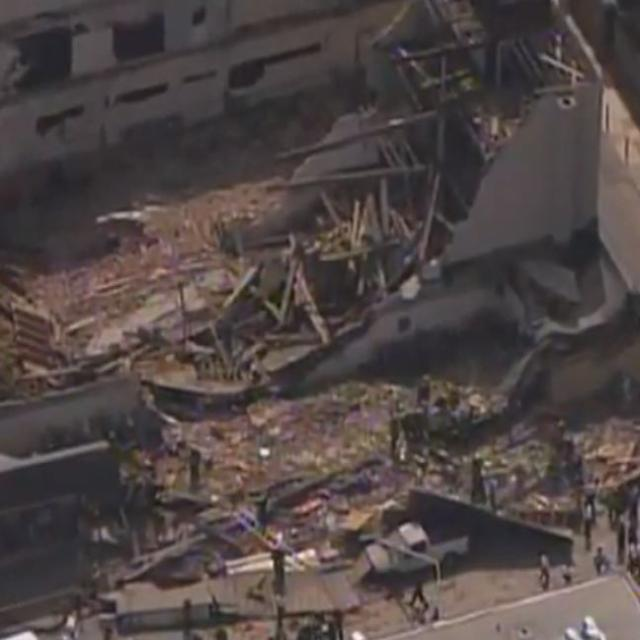collapsed_building: (27, 15, 557, 387)
